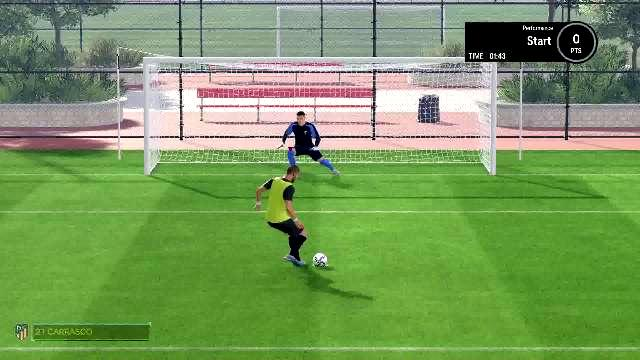bottom-left: (156, 124, 260, 173)
bottom-right: (374, 122, 484, 172)
center-down: (261, 125, 371, 175)
center-up: (260, 69, 372, 123)
circle: (313, 264, 329, 266)
football: (313, 252, 329, 268)
goalkeeper: (278, 109, 342, 177)
player: (254, 164, 308, 268)
top-left: (157, 69, 259, 123)
top-right: (374, 68, 484, 120)
